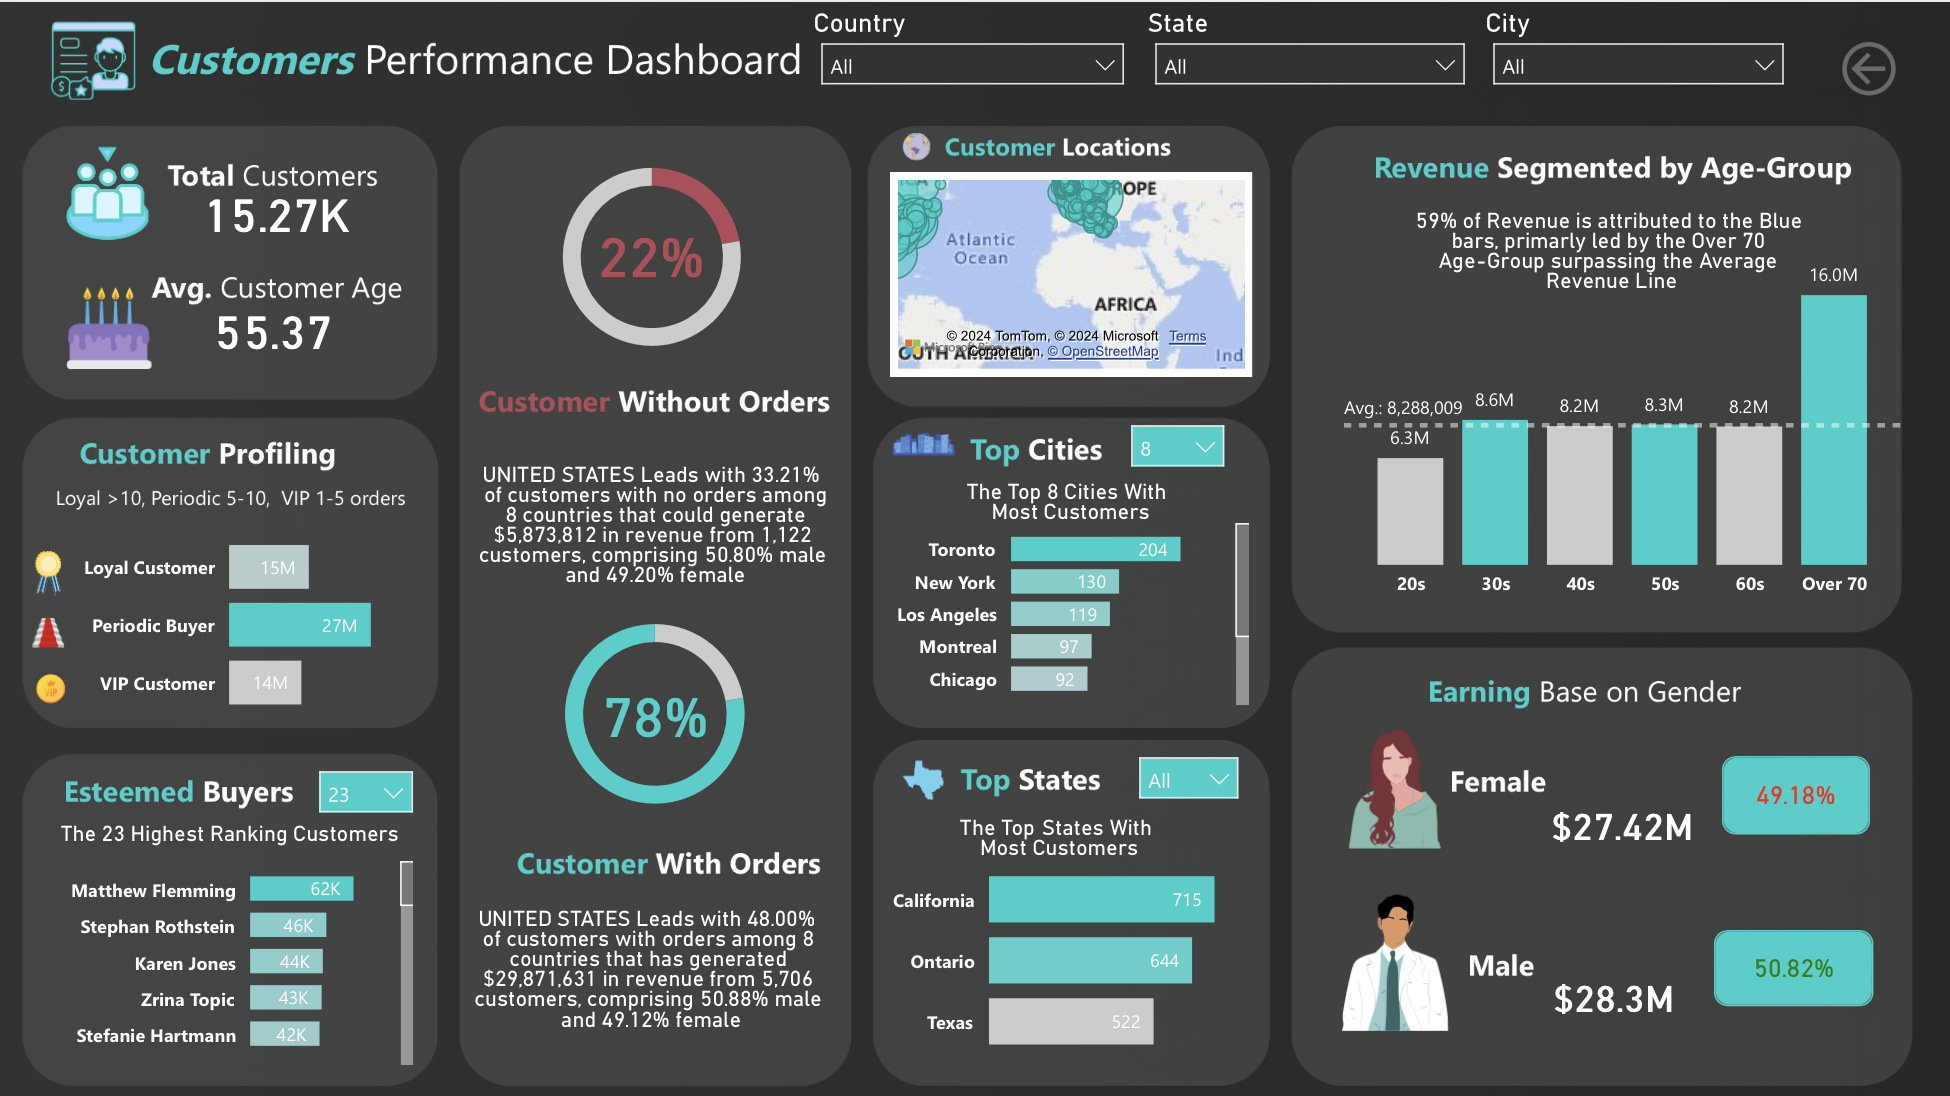

The page's visual inventory and layout, read from the dashboard file:
{"tool":"powerbi","page":{"name":"Customers Performance","canvas":[1280,720],"ordinal":2},"visuals":[{"type":"clusteredColumnChart","fields":{"Category":["CustomerSeg.AgeGroup"],"Y":["Calculations.Total Revenue"]},"box":[876.8,151.6,376.7,247],"z":0},{"type":"card","fields":{"Values":["Calculations.Avg Caption"]},"box":[908.1,93.8,301.7,146.9],"z":1000},{"type":"textbox","box":[897.2,89.1,338.2,42.5],"z":2000},{"type":"card","fields":{"Values":["Count(CustomerSeg.CustomerKey)"]},"box":[126.1,111.6,114.5,52.2],"z":3000},{"type":"barChart","title":"Customer Profiling","fields":{"Category":["CustomerSeg.CustomerOrderingType"],"Y":["Calculations.Total Revenue"]},"box":[48.5,328.3,228.3,154.5],"z":4000},{"type":"card","fields":{"Values":["Avg(CustomerSeg.Age)"]},"box":[118.8,189.1,121.9,51.6],"z":5000},{"type":"donutChart","fields":{"Y":["Calculations.CustomersWithNoOrders","Calculations.CustomersWithOrders"]},"box":[331.5,387.8,197.8,157.2],"z":6000},{"type":"donutChart","fields":{"Y":["Calculations.CustomersWithNoOrders","Calculations.CustomersWithOrders"]},"box":[319.7,89.1,217.5,155.9],"z":7000},{"type":"card","fields":{"Values":["Calculations.% C without Orders"]},"box":[378.6,131,99.6,65.5],"z":8000},{"type":"card","fields":{"Values":["Calculations.% C with Orders"]},"box":[381.2,432.3,99.6,65.5],"z":9000},{"type":"textbox","box":[318.6,546.2,243,42.5],"z":10000},{"type":"textbox","box":[307.9,242.4,245,41.9],"z":11000},{"type":"card","fields":{"Values":["Calculations.Caption Customers With Orders"]},"box":[301.7,284.5,259.5,131.3],"z":12000},{"type":"card","fields":{"Values":["Calculations.Caption Customers With Orders"]},"box":[297,578.3,264.1,126.6],"z":13000},{"type":"slicer","fields":{"Values":["Dynamic Customers.Dynamic Customers"]},"box":[200.1,493.9,81.3,39.1],"z":14000},{"type":"textbox","box":[95.3,167.2,209.4,64.1],"z":15000},{"type":"textbox","box":[106.3,93.8,187.6,62.5],"z":16000},{"type":"barChart","fields":{"Category":["dataspark customers.City"],"Y":["Calculations.Dynamic CityCustomers"]},"box":[582.8,329.2,242.6,137],"z":17000},{"type":"card","fields":{"Values":["Calculations.% Female"]},"box":[1130,493.9,96.9,51.6],"z":18000},{"type":"card","fields":{"Values":["Calculations.% Male"]},"box":[1125.4,608,104.7,50],"z":19000},{"type":"textbox","box":[958.1,612.7,143.8,40.6],"z":20000},{"type":"textbox","box":[947.2,492.3,143.8,40.6],"z":21000},{"type":"slicer","fields":{"Values":["Dynamic CityCustomers.Dynamic CityCustomers"]},"box":[732.9,268.1,81.1,42.9],"z":22000},{"type":"slicer","title":"City","fields":{"Values":["dataspark customers.City"]},"box":[971.1,6.9,210.6,58.7],"z":23000},{"type":"slicer","title":"State","fields":{"Values":["dataspark customers.State"]},"box":[748.3,6.9,222.8,58.7],"z":24000},{"type":"slicer","title":"Country","fields":{"Values":["dataspark customers.Country"]},"box":[529.6,6.9,218.7,58.7],"z":25000},{"type":"textbox","box":[89.1,13.1,448.1,59],"z":26000},{"type":"barChart","fields":{"Category":["dataspark customers.Name"],"Y":["Calculations.Dynamic customers"]},"box":[39.4,551.3,237.8,151.2],"z":27000},{"type":"textbox","box":[38.5,498.2,192.4,42.5],"z":28000},{"type":"card","fields":{"Values":["Calculations.Title Top Customers"]},"box":[7.9,523.6,288.3,45],"z":29000},{"type":"card","fields":{"Values":["Calculations.Male Revenue"]},"box":[1000.3,628.3,118.8,48.5],"z":30000},{"type":"card","fields":{"Values":["Calculations.Female Revenue"]},"box":[1000.3,518.9,129.7,40.6],"z":31000},{"type":"card","fields":{"Values":["Calculations.Title Top Cities"]},"box":[620.4,286.2,166.1,87.1],"z":32000},{"type":"textbox","box":[585.3,274.1,192.4,44.6],"z":33000},{"type":"textbox","box":[933.1,432.9,253.2,40.6],"z":34000},{"type":"barChart","fields":{"Category":["dataspark customers.State"],"Y":["Calculations.Dynamic StateCustomers"]},"box":[579.2,544.8,249.1,162],"z":35000},{"type":"slicer","fields":{"Values":["Dynamic StateCustomer.Dynamic StateCustomer"]},"box":[737.9,484.7,85.1,42.5],"z":36000},{"type":"textbox","box":[586,490.8,182.3,42.5],"z":37000},{"type":"card","fields":{"Values":["Calculations.Title Top States"]},"box":[600.2,524.2,190.4,50.6],"z":38000},{"type":"textbox","box":[48.5,276.6,192.2,42.2],"z":39000},{"type":"textbox","box":[589.2,78.1,212.6,40.6],"z":40000},{"type":"map","fields":{"Category":["dataspark customers.Location"],"Size":["CountNonNull(dataspark customers.CustomerKey)"]},"box":[584.6,111,237.6,134.4],"z":41000},{"type":"textbox","box":[32.8,311,261,34.4],"z":42000},{"type":"actionButton","box":[1203.8,12,45.9,63.9],"z":43000}]}

Visuals, with their boxes in screenshot pixels (x1, y1, x2, y2), scaled from the page's 1280x720 canvas onto the 1950x1096 screenshot:
clusteredColumnChart - CustomerSeg.AgeGroup x Calculations.Total Revenue: box(1336, 231, 1910, 607)
card - Calculations.Avg Caption: box(1383, 143, 1843, 366)
textbox: box(1367, 136, 1882, 200)
card - Count(CustomerSeg.CustomerKey): box(192, 170, 367, 249)
"Customer Profiling" barChart: box(74, 500, 422, 735)
card - Avg(CustomerSeg.Age): box(181, 288, 367, 366)
donutChart - Calculations.CustomersWithNoOrders x Calculations.CustomersWithOrders: box(505, 590, 806, 830)
donutChart - Calculations.CustomersWithNoOrders x Calculations.CustomersWithOrders: box(487, 136, 818, 373)
card - Calculations.% C without Orders: box(577, 199, 729, 299)
card - Calculations.% C with Orders: box(581, 658, 732, 758)
textbox: box(485, 831, 856, 896)
textbox: box(469, 369, 842, 433)
card - Calculations.Caption Customers With Orders: box(460, 433, 855, 633)
card - Calculations.Caption Customers With Orders: box(452, 880, 855, 1073)
slicer - Dynamic Customers.Dynamic Customers: box(305, 752, 429, 811)
textbox: box(145, 255, 464, 352)
textbox: box(162, 143, 448, 238)
barChart - dataspark customers.City x Calculations.Dynamic CityCustomers: box(888, 501, 1257, 710)
card - Calculations.% Female: box(1721, 752, 1869, 830)
card - Calculations.% Male: box(1714, 926, 1874, 1002)
textbox: box(1460, 933, 1679, 994)
textbox: box(1443, 749, 1662, 811)
slicer - Dynamic CityCustomers.Dynamic CityCustomers: box(1117, 408, 1240, 473)
"City" slicer: box(1479, 11, 1800, 100)
"State" slicer: box(1140, 11, 1479, 100)
"Country" slicer: box(807, 11, 1140, 100)
textbox: box(136, 20, 818, 110)
barChart - dataspark customers.Name x Calculations.Dynamic customers: box(60, 839, 422, 1069)
textbox: box(59, 758, 352, 823)
card - Calculations.Title Top Customers: box(12, 797, 451, 866)
card - Calculations.Male Revenue: box(1524, 956, 1705, 1030)
card - Calculations.Female Revenue: box(1524, 790, 1721, 852)
card - Calculations.Title Top Cities: box(945, 436, 1198, 568)
textbox: box(892, 417, 1185, 485)
textbox: box(1422, 659, 1807, 721)
barChart - dataspark customers.State x Calculations.Dynamic StateCustomers: box(882, 829, 1262, 1076)
slicer - Dynamic StateCustomer.Dynamic StateCustomer: box(1124, 738, 1254, 803)
textbox: box(893, 747, 1170, 812)
card - Calculations.Title Top States: box(914, 798, 1204, 875)
textbox: box(74, 421, 367, 485)
textbox: box(898, 119, 1221, 181)
map - dataspark customers.Location x CountNonNull(dataspark customers.CustomerKey): box(891, 169, 1253, 374)
textbox: box(50, 473, 448, 526)
actionButton: box(1834, 18, 1904, 116)
